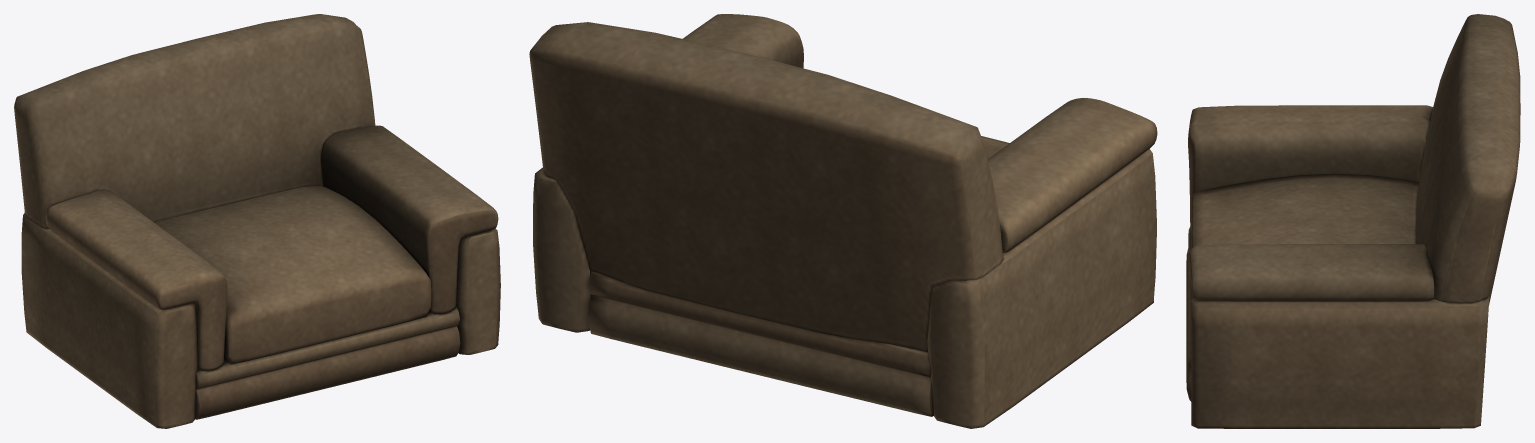
The model's file is austin_accent.fbx.
3 views of the same model, side by side, from view 1: azimuth 30°, elevation 25°; view 2: azimuth 150°, elevation 25°; view 3: azimuth 270°, elevation 25° (orthographic). The views are drawn at different scales.
Parts seen in each view (by area): view 1: Austin_Accent_hair; view 2: Austin_Accent_hair; view 3: Austin_Accent_hair.
Part boxes in pixels (<box>): Austin_Accent_hair: <box>14,14,500,428</box>; Austin_Accent_hair: <box>529,14,1157,428</box>; Austin_Accent_hair: <box>1186,14,1520,428</box>.
Bounding box in the file's own units: 1.82 × 1.21 × 1.43.
